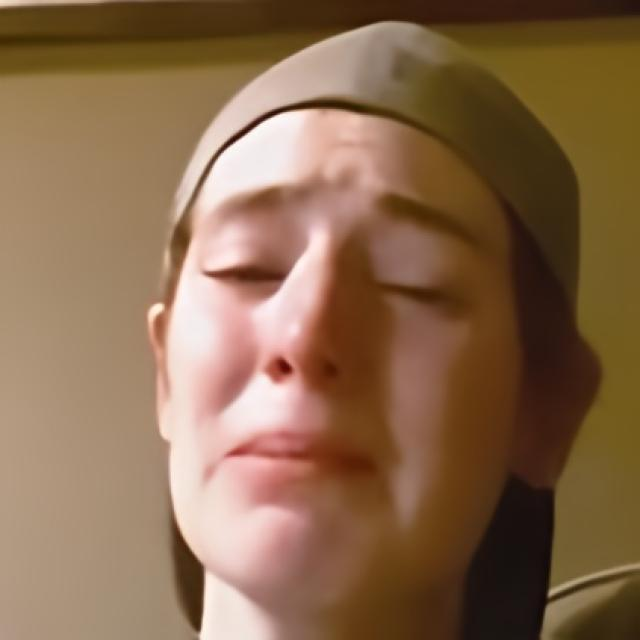sad: (168, 84, 520, 594)
